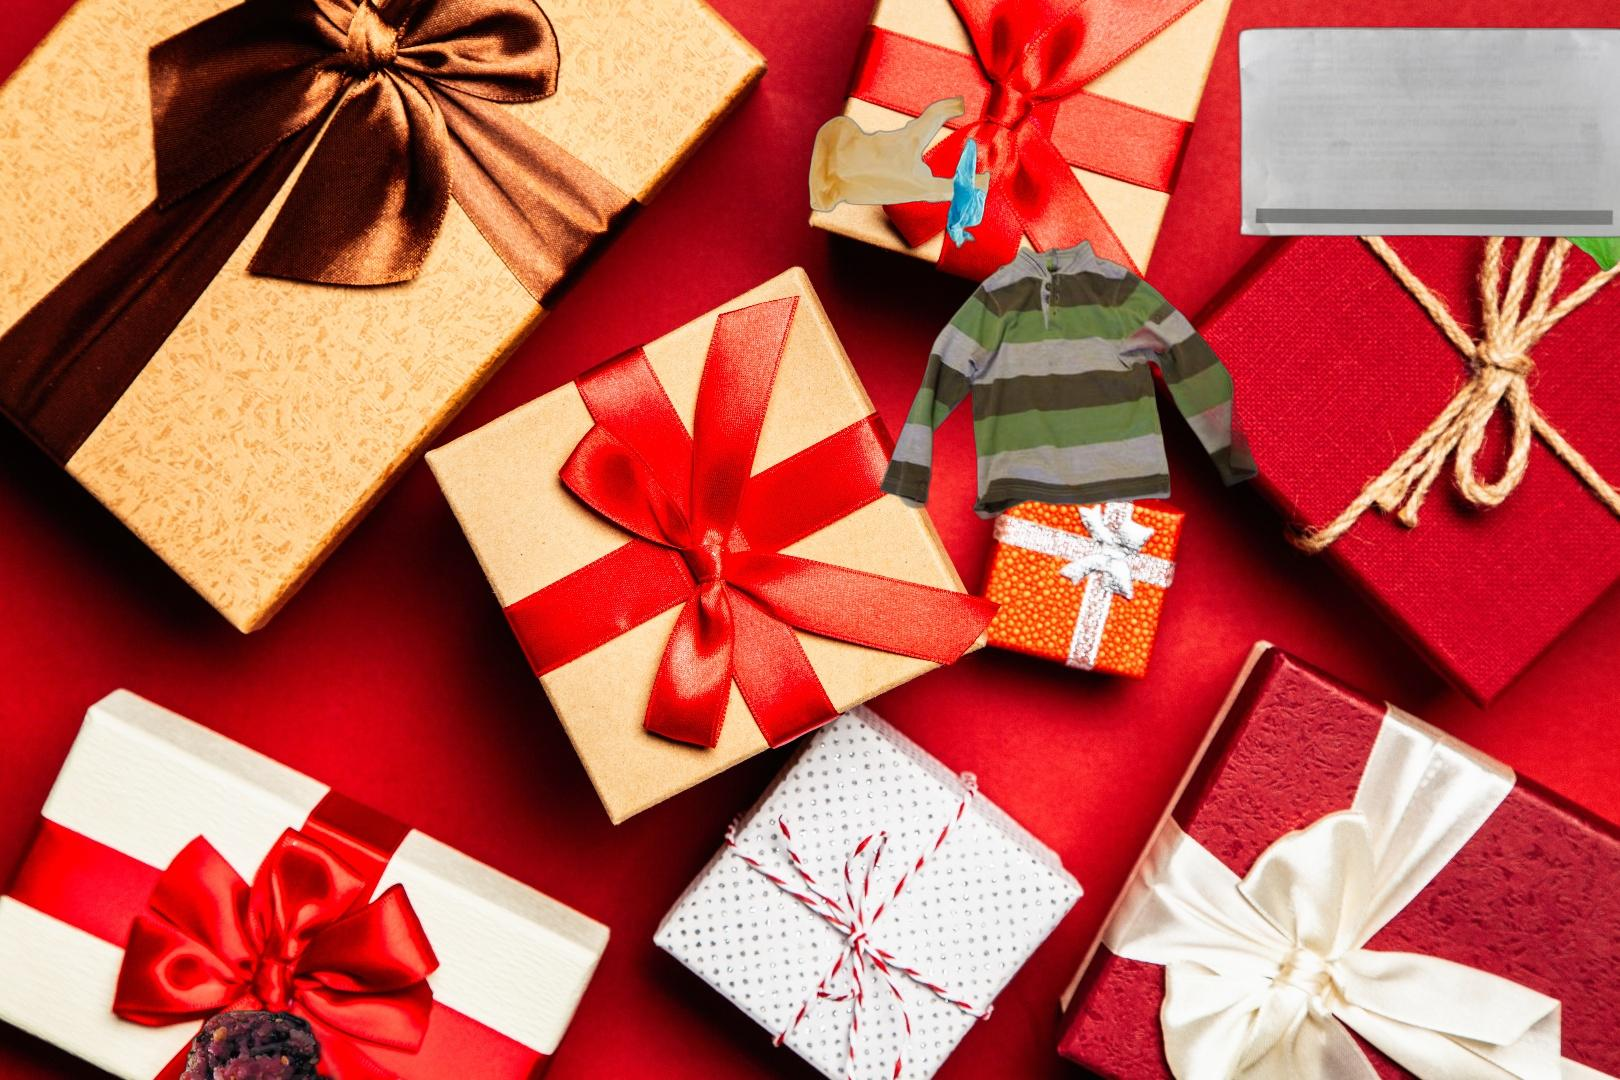biological: (54, 1006, 360, 1080)
clothes: (876, 237, 1263, 524)
paper: (1234, 24, 1620, 240)
plastic-bag: (806, 92, 993, 252), (1496, 154, 1620, 385)
